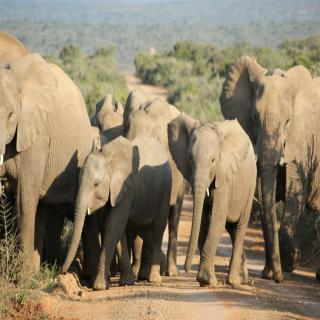Elephant: (216, 52, 320, 288), (60, 130, 175, 294), (166, 111, 258, 290)
